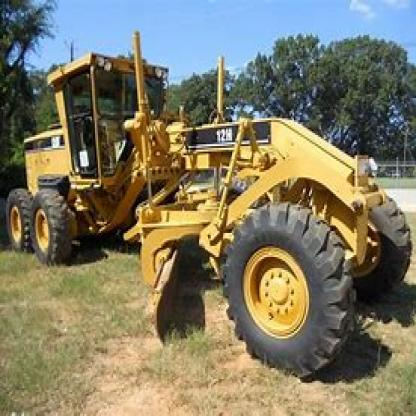bull_dozer/loader/grader: (0, 40, 414, 373)
